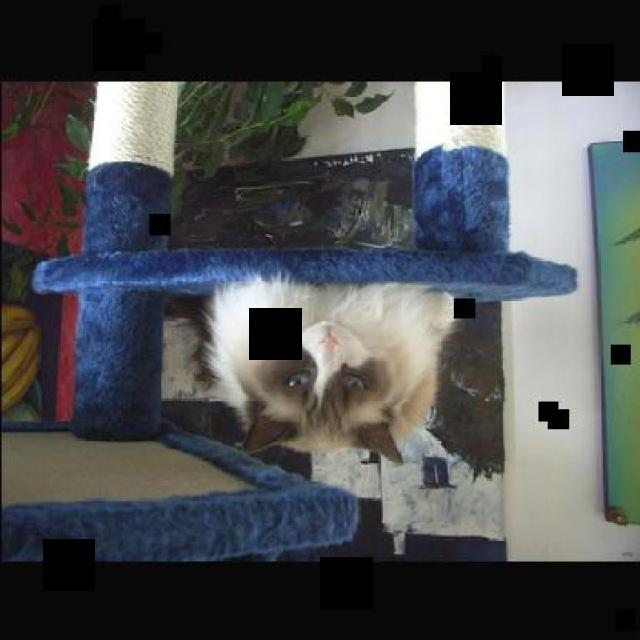unauthorized: (174, 269, 457, 465)
